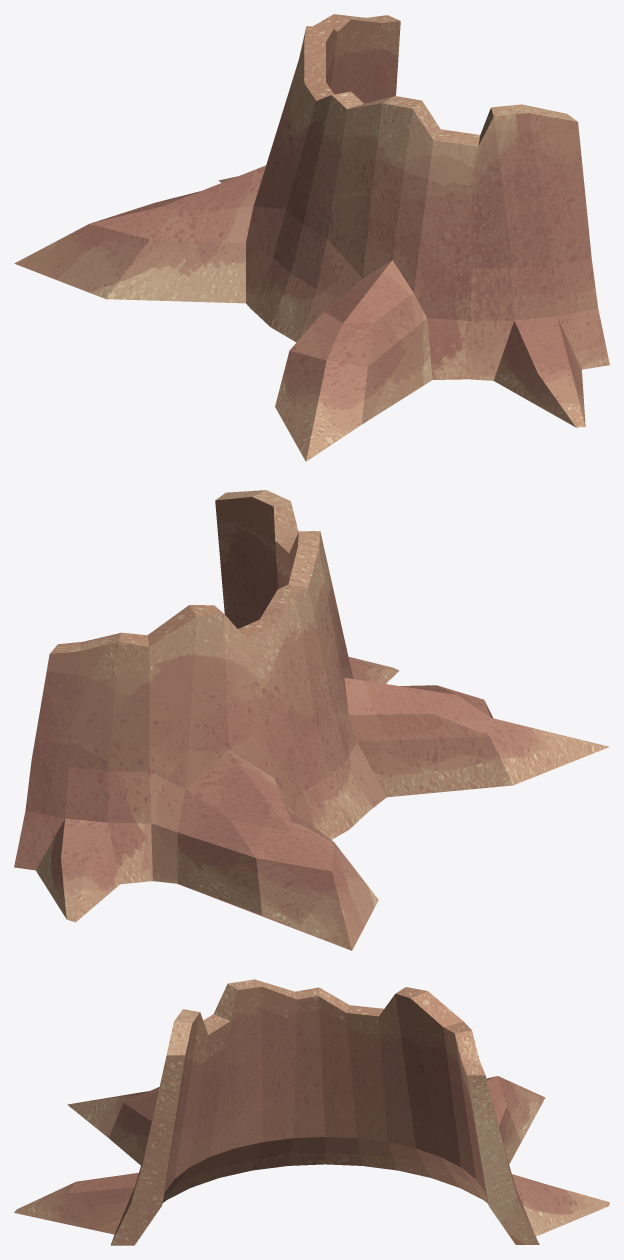
Rendered from TREE_BACKTEXTURED.fbx.
3 renders of one model, top to bottom at view 1: azimuth 30°, elevation 25°; view 2: azimuth 150°, elevation 25°; view 3: azimuth 270°, elevation 25°, orthographic. The views are drawn at different scales.
Visible parts, largest first — view 1: Cylinder.001; view 2: Cylinder.001; view 3: Cylinder.001.
Boxes of the visible parts, x1,y1,x2,y2 form: Cylinder.001: (14, 14, 609, 461); Cylinder.001: (14, 490, 609, 950); Cylinder.001: (14, 979, 609, 1245).
Bounding box in the file's own units: 807 × 536 × 1390.
Materials: 1 (1 with a texture image).
